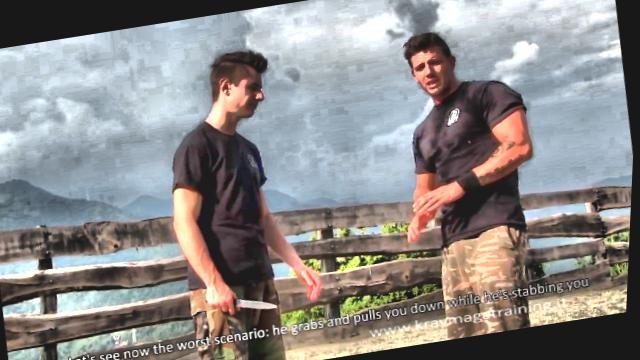knife: (205, 280, 289, 325)
